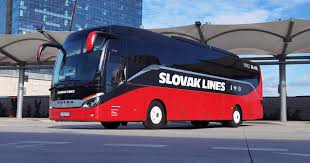bus: (38, 25, 263, 130)
